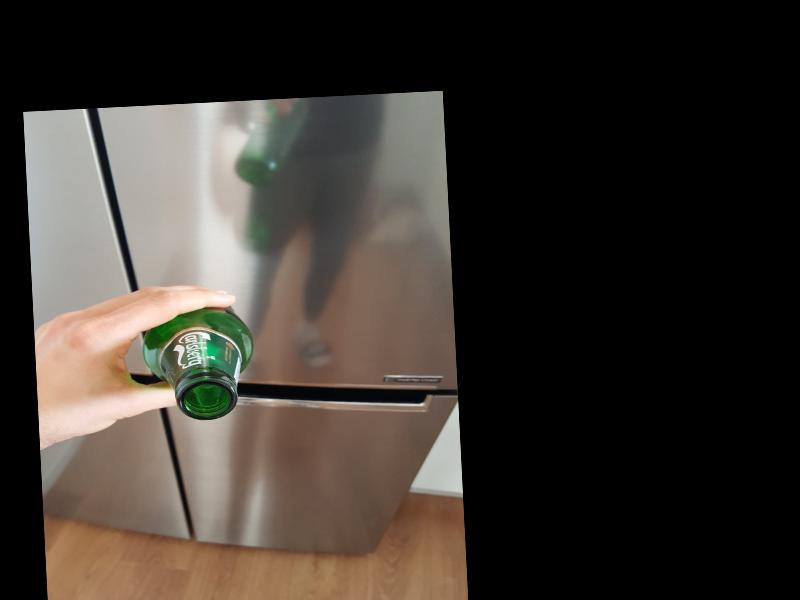Beer: (143, 304, 256, 423)
